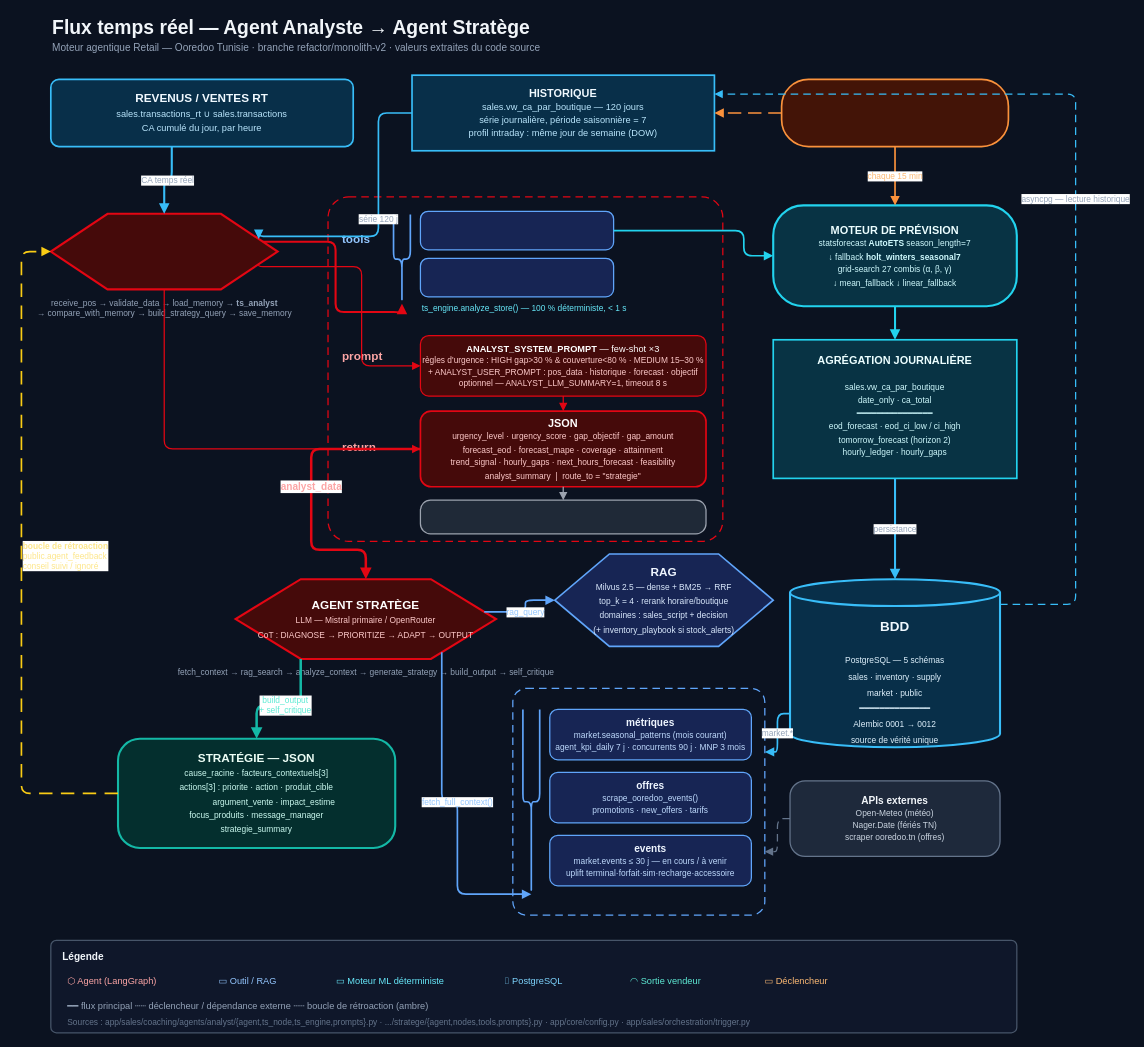
This 1144x1047 diagram has some shape labels left out. The centre of each missing label's shape, as x and y in pixels:
AGENT ANALYSTE graphe v4 — 7 nodes LLM hors chemin critique: [163,251]
compute_eod_forecast prévision fin de journée + IC 80 %: [516,230]
compute_realtime_gap gap horaire vs profil attendu: [516,277]
eval — WAPE backtest rolling-origin, 28 j plafonné à 60 % · Holt mesuré à 4,4 %: [562,516]
TRIGGER CYCLE_INTERVAL_MINUTES = 15 orchestration/trigger.py: [894,112]
